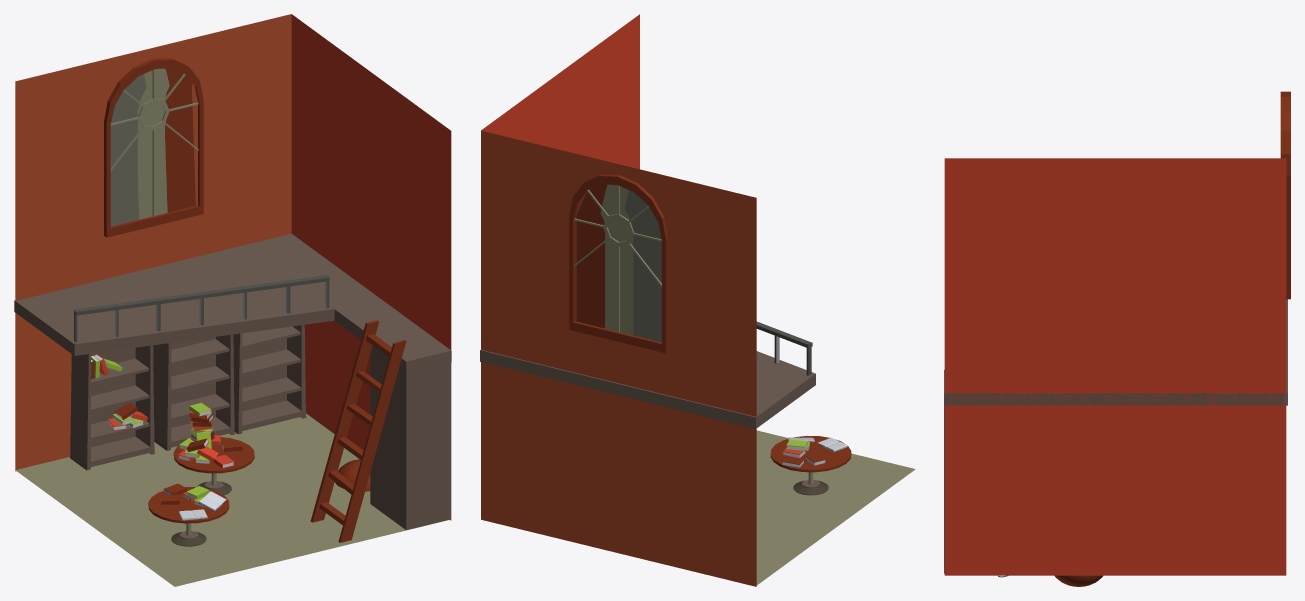
Rendered from LibrarySceneSortaFinished.fbx.
3 renders of one model, left to right at view 1: azimuth 30°, elevation 25°; view 2: azimuth 150°, elevation 25°; view 3: azimuth 270°, elevation 25°, orthographic. The views are drawn at different scales.
Parts seen in each view (by area): view 1: WallWithWindow, Wall, Floor, Landing, Window1:Window, pCube4, Bookshelves:Bookshelves, Bookshelves1:Bookshelves, Bookshelves2:Bookshelves, Asset2:Ladder, pasted__pCube1, SimpleTable1:JustTheTable (+1 smaller); view 2: WallWithWindow, Window1:Window, Wall, Floor, Landing, SimpleTable1:JustTheTable, pasted__pCube1; view 3: Wall, Landing, Window1:Window.
Boxes of the visible parts, x1=… form: WallWithWindow: x1=15, y1=14, x2=291, y2=471; Wall: x1=291, y1=14, x2=451, y2=520; Floor: x1=15, y1=413, x2=449, y2=586; Landing: x1=14, y1=233, x2=451, y2=373; Window1:Window: x1=104, y1=58, x2=203, y2=237; pCube4: x1=370, y1=348, x2=451, y2=530; Bookshelves:Bookshelves: x1=70, y1=345, x2=155, y2=470; Bookshelves1:Bookshelves: x1=153, y1=334, x2=235, y2=450; Bookshelves2:Bookshelves: x1=233, y1=325, x2=306, y2=434; Asset2:Ladder: x1=310, y1=320, x2=406, y2=542; pasted__pCube1: x1=74, y1=275, x2=329, y2=342; SimpleTable1:JustTheTable: x1=148, y1=487, x2=229, y2=546; WallWithWindow: x1=481, y1=130, x2=756, y2=586; Window1:Window: x1=569, y1=174, x2=667, y2=353; Wall: x1=481, y1=14, x2=639, y2=169; Floor: x1=756, y1=430, x2=915, y2=585; Landing: x1=480, y1=349, x2=815, y2=428; SimpleTable1:JustTheTable: x1=770, y1=436, x2=851, y2=495; pasted__pCube1: x1=756, y1=321, x2=812, y2=375; Wall: x1=944, y1=158, x2=1286, y2=575; Landing: x1=944, y1=299, x2=1287, y2=405; Window1:Window: x1=1280, y1=91, x2=1290, y2=299.
Bounding box in the file's own units: 25.48 × 35.48 × 25.39.
1 material, 1 textured.
